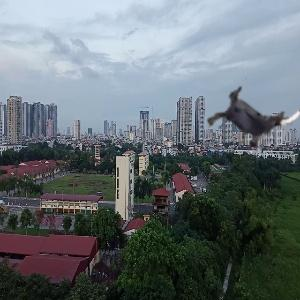drone: (205, 71, 300, 166)
